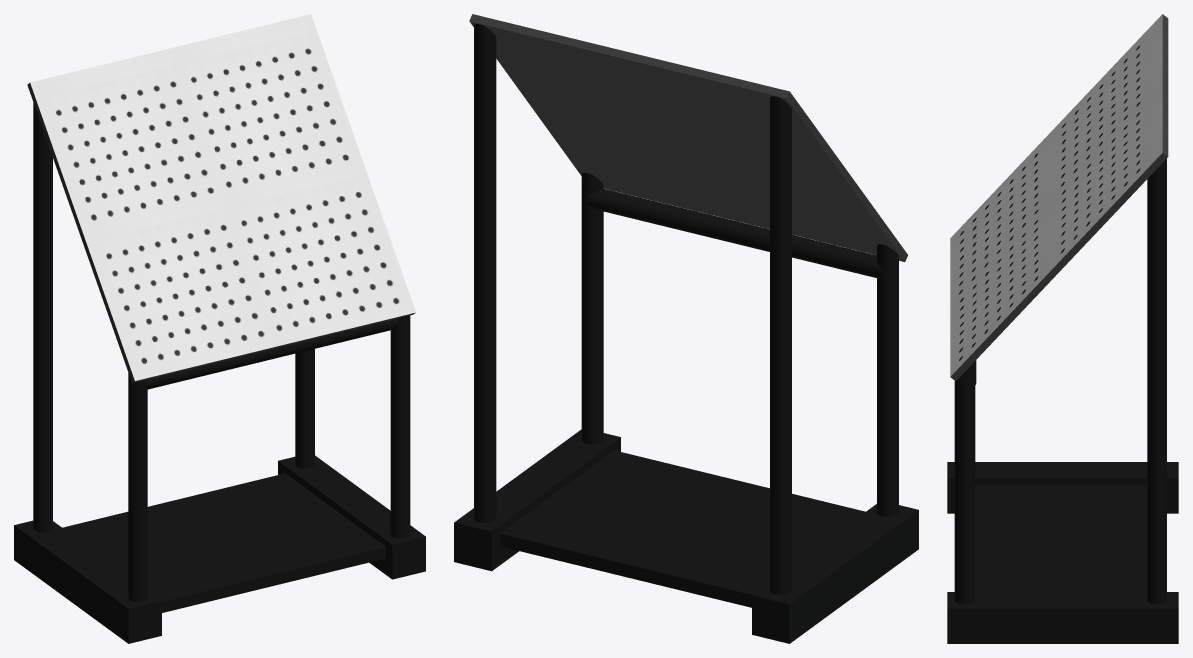
File: workbench.obj
The picture shows the model from 3 angles, left to right: view 1: azimuth 30°, elevation 25°; view 2: azimuth 150°, elevation 25°; view 3: azimuth 270°, elevation 25°; orthographic projection. The views are drawn at different scales.
Parts seen in each view (by area): view 1: Cube, plain, brick1, Cylinder, brick2, Cylinder.003, Cylinder.001, Cylinder.004, Cylinder.002; view 2: Cube, plain, Cylinder.002, Cylinder, brick1, brick2, Cylinder.004, Cylinder.003, Cylinder.001; view 3: Cube, plain, brick2, Cylinder.002, brick1, Cylinder.003.
Boxes of the visible parts, bbox=[...] form: Cube: bbox=[27, 14, 415, 383]; plain: bbox=[62, 473, 385, 612]; brick1: bbox=[14, 520, 161, 643]; Cylinder: bbox=[33, 102, 52, 532]; brick2: bbox=[278, 455, 425, 579]; Cylinder.003: bbox=[390, 315, 410, 538]; Cylinder.001: bbox=[128, 373, 147, 601]; Cylinder.004: bbox=[146, 318, 399, 389]; Cylinder.002: bbox=[295, 349, 314, 468]; Cube: bbox=[469, 14, 907, 261]; plain: bbox=[500, 450, 865, 607]; Cylinder.002: bbox=[474, 24, 496, 522]; Cylinder: bbox=[770, 96, 791, 595]; brick1: bbox=[752, 504, 918, 643]; brick2: bbox=[454, 429, 620, 571]; Cylinder.004: bbox=[587, 188, 882, 278]; Cylinder.003: bbox=[581, 172, 603, 444]; Cylinder.001: bbox=[877, 244, 898, 516]; Cube: bbox=[950, 14, 1168, 380]; plain: bbox=[974, 485, 1147, 591]; brick2: bbox=[947, 592, 1178, 643]; Cylinder.002: bbox=[1147, 159, 1166, 604]; brick1: bbox=[947, 462, 1178, 513]; Cylinder.003: bbox=[954, 362, 974, 604].
Size of the model in its own units: 3.41 by 5.28 by 2.27.
